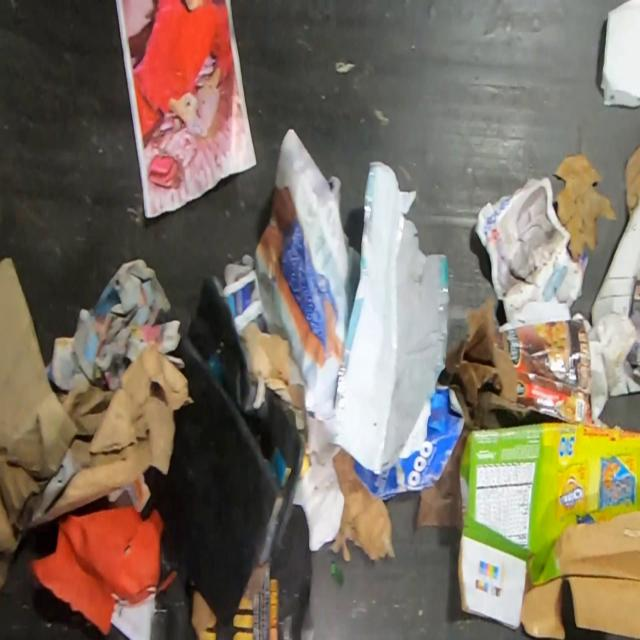cardboard: (0, 258, 188, 587), (456, 421, 639, 639), (448, 298, 636, 424), (327, 443, 394, 561)
soft_plastic: (332, 162, 449, 474)
